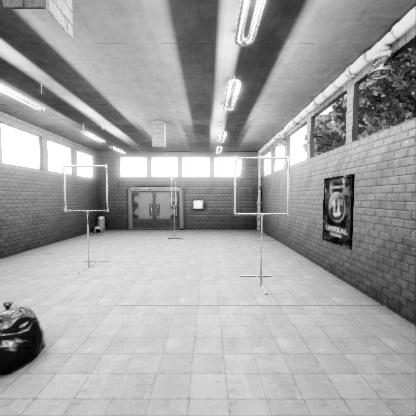gate: (236, 203, 295, 261), (67, 206, 114, 251), (171, 211, 176, 239)
